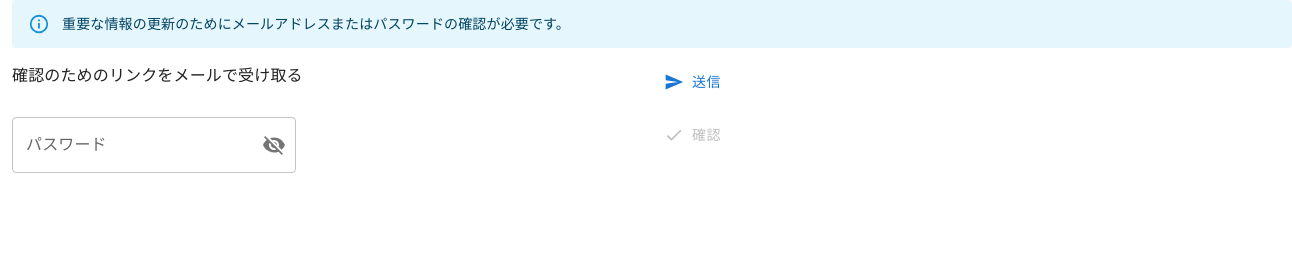
ReauthenticationPanel: Password › shows message for error.
In the password field labelled "パスワード": [129, 144] box [12,116,246,172], type "a"
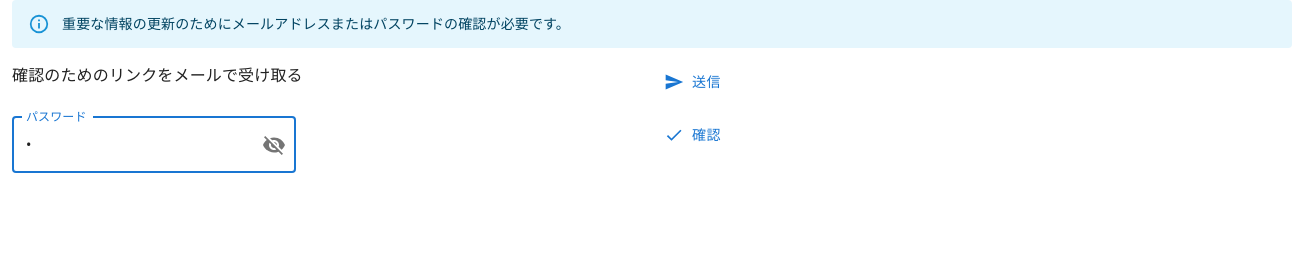
Click the button with aria-label "passwordConfiremation": [694, 135] box [660,116,729,153]
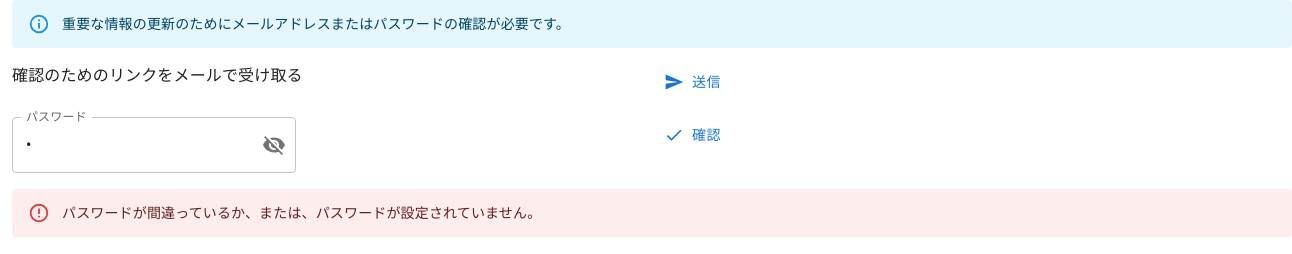
Check: the text "パスワードが間違っているか、または、パスワードが設定されていません。" is shown, box [62,204,541,220]
